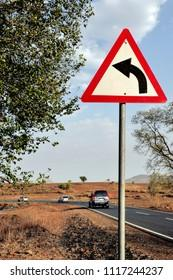Left hand curve: (78, 23, 171, 115)
